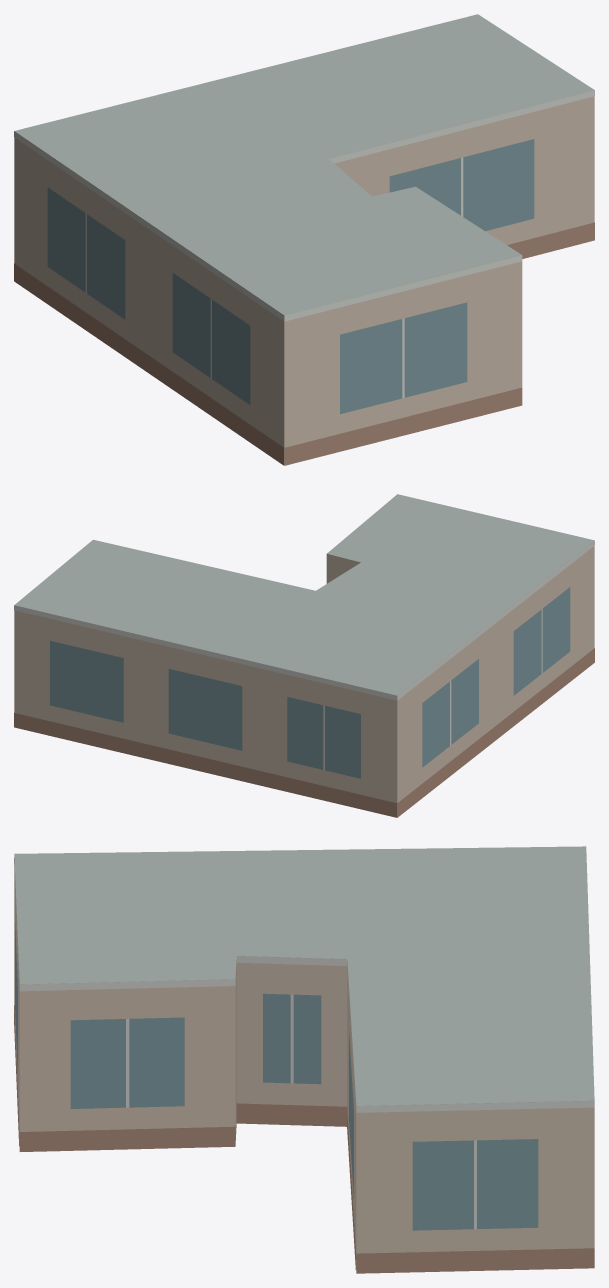
The model's file is survey-upis-32982179.glb.
The picture shows the model from 3 angles, top to bottom: view 1: azimuth 30°, elevation 25°; view 2: azimuth 150°, elevation 25°; view 3: azimuth 270°, elevation 25°; orthographic projection. The views are drawn at different scales.
Visible parts, largest first — view 1: survey-upis-32982179.tmp; view 2: survey-upis-32982179.tmp; view 3: survey-upis-32982179.tmp.
Boxes of the visible parts, bbox=[...] form: survey-upis-32982179.tmp: bbox=[14, 14, 594, 465]; survey-upis-32982179.tmp: bbox=[14, 494, 594, 817]; survey-upis-32982179.tmp: bbox=[14, 846, 594, 1273].
Size of the model in its own units: 10.15 by 3.05 by 9.59.
